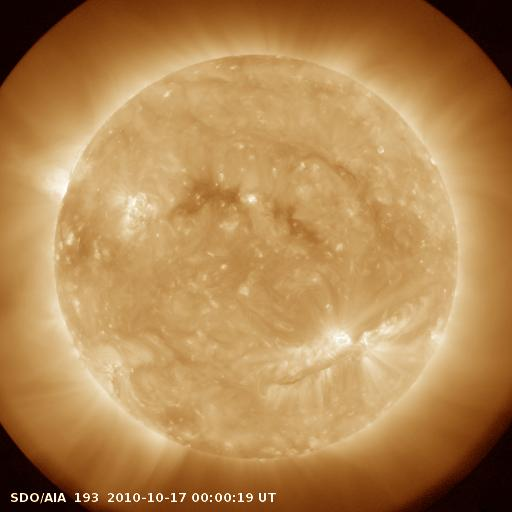coronal_hole: (168, 173, 251, 218)
